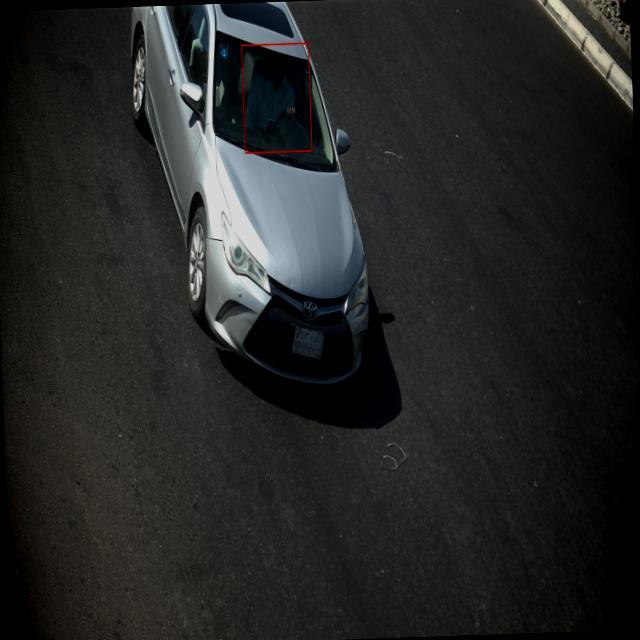windshield: (209, 28, 339, 178)
